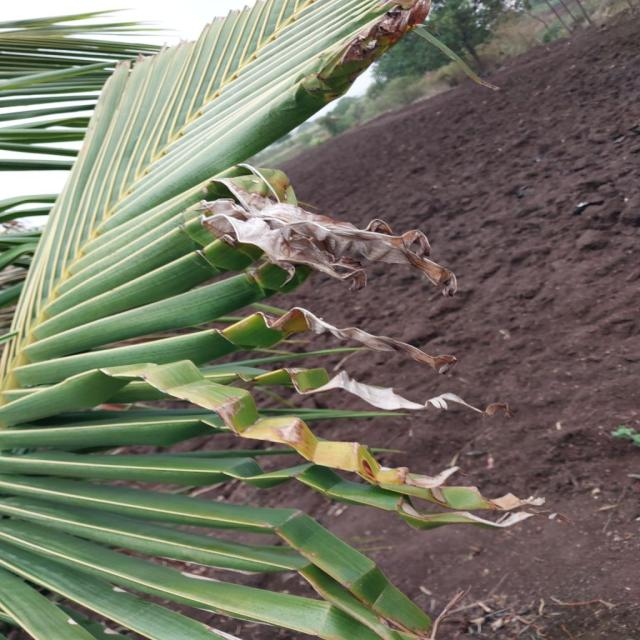leaf rot: (157, 142, 533, 536)
